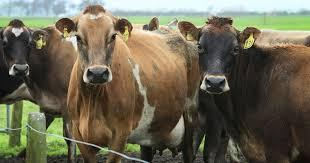cow: (56, 5, 201, 163), (178, 16, 310, 163), (0, 19, 49, 104)
